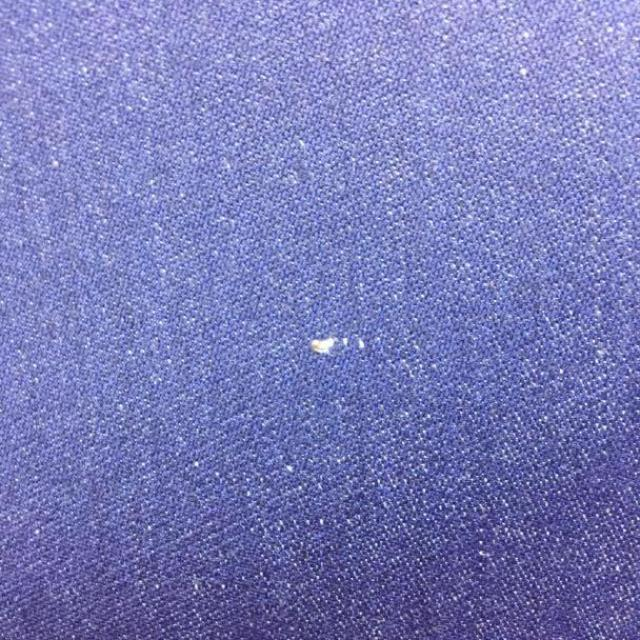Knot: (311, 337, 366, 355)
